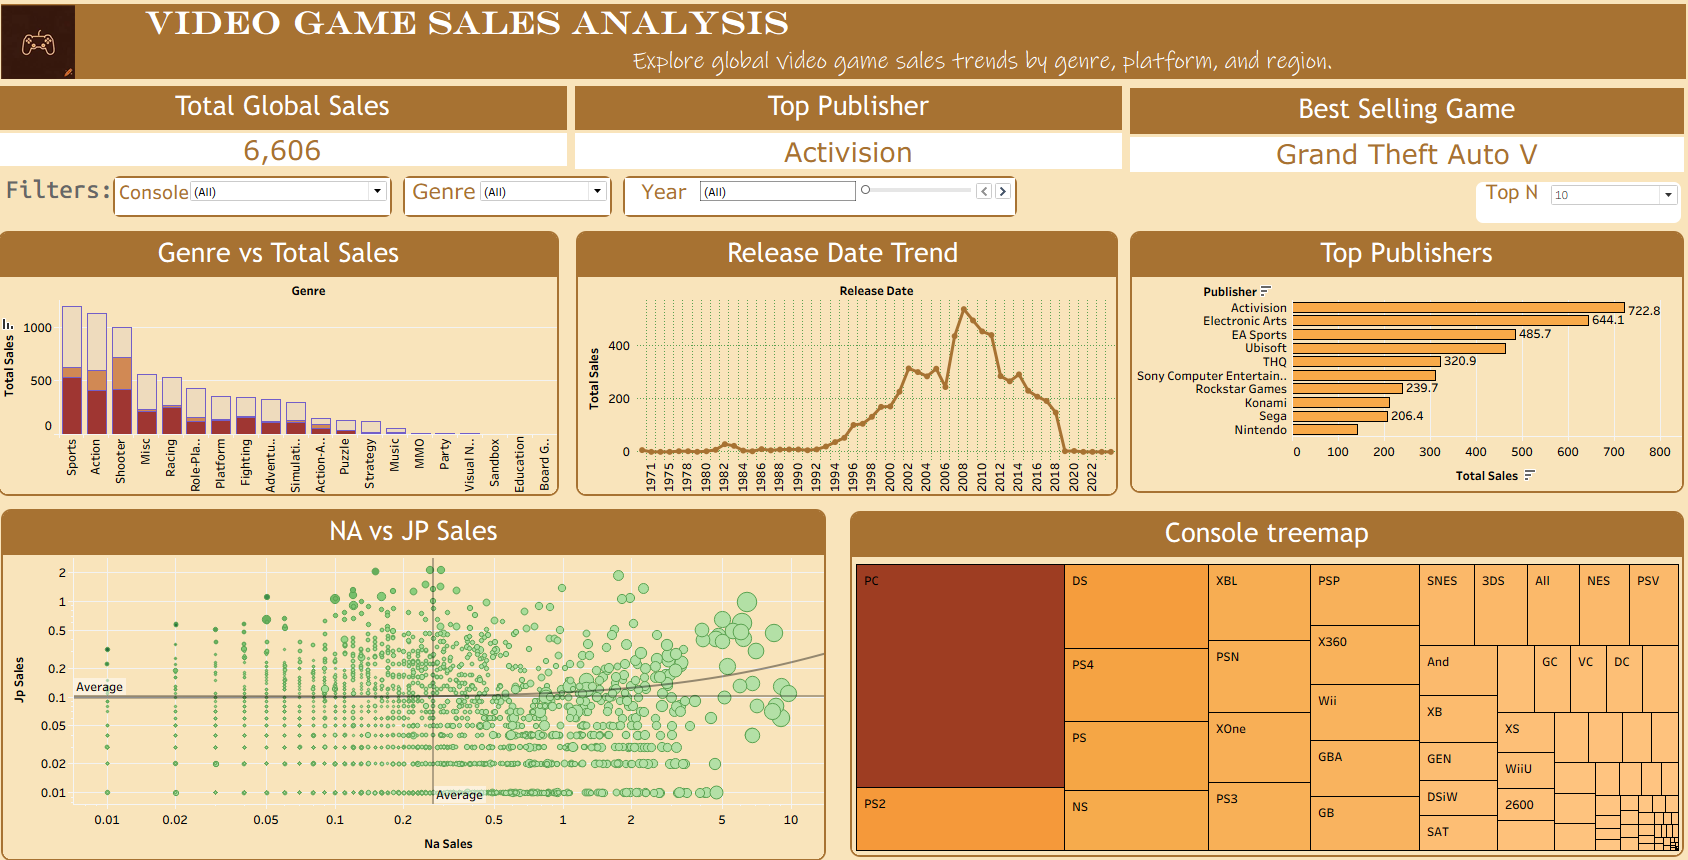

The dashboard page shown, as its layout file describes it:
{"tool":"tableau","page":{"name":"Game Sales Executive Overview","canvas":[1709,881],"ordinal":0},"visuals":[{"type":"title","box":[8,8,1693,83]},{"type":"image","param":"C:/Users/ujjwal/Downloads/images.jpg","box":[12,13,93,74]},{"type":"worksheet","title":"KPI - Total Sales","mark":"Text","box":[9,94,569,80]},{"type":"worksheet","title":"KPI - Top Publisher","mark":"Text","cols":["publisher"],"box":[586,94,547,83]},{"type":"worksheet","title":"KPI - Best Game","mark":"Text","cols":["title"],"box":[1141,96,554,84]},{"type":"filter","title":"KPI - Best Game","param":"[federated.1r0g9bp1v4qgp71d3eeln0aplebd].[none:console:nk]","box":[124,184,279,41]},{"type":"filter","title":"Genre vs Total Sales ","param":"[federated.1r0g9bp1v4qgp71d3eeln0aplebd].[none:genre:nk]","box":[414,184,209,41]},{"type":"filter","title":"Release Date Trend ","param":"[federated.1r0g9bp1v4qgp71d3eeln0aplebd].[yr:release_date:ok]","box":[634,184,394,41]},{"type":"text","box":[14,186,112,23]},{"type":"parameter","param":"[Parameters].[Parameter 1]","box":[1487,190,205,41]},{"type":"worksheet","title":"Genre vs Total Sales ","mark":"Automatic","rows":["total_sales"],"cols":["genre"],"box":[9,239,561,265]},{"type":"worksheet","title":"Release Date Trend ","mark":"Automatic","rows":["total_sales"],"cols":["release_date"],"box":[587,239,542,265]},{"type":"worksheet","title":" Top Publishers ","mark":"Automatic","rows":["publisher"],"cols":["total_sales"],"box":[1141,239,554,262]},{"type":"worksheet","title":"NA vs JP Sales","mark":"Circle","rows":["jp_sales"],"cols":["na_sales"],"box":[12,517,825,352]},{"type":"worksheet","title":"Console treemap","mark":"Automatic","box":[861,519,834,346]}]}

Visuals, with their boxes in screenshot pixels (x1, y1, x2, y2), scaled from the page's 1709x881 canvas onto the 1688x860 screenshot:
title: select_region(8, 8, 1680, 89)
image: select_region(12, 13, 104, 85)
"KPI - Total Sales" worksheet (Text marks): select_region(9, 92, 571, 170)
"KPI - Top Publisher" worksheet (Text marks): select_region(579, 92, 1119, 173)
"KPI - Best Game" worksheet (Text marks): select_region(1127, 94, 1674, 176)
"KPI - Best Game" filter: select_region(122, 180, 398, 220)
"Genre vs Total Sales " filter: select_region(409, 180, 615, 220)
"Release Date Trend " filter: select_region(626, 180, 1015, 220)
text: select_region(14, 182, 124, 204)
parameter: select_region(1469, 185, 1671, 225)
"Genre vs Total Sales " worksheet: select_region(9, 233, 563, 492)
"Release Date Trend " worksheet: select_region(580, 233, 1115, 492)
" Top Publishers " worksheet: select_region(1127, 233, 1674, 489)
"NA vs JP Sales" worksheet (Circle marks): select_region(12, 505, 827, 848)
"Console treemap" worksheet: select_region(850, 507, 1674, 844)
